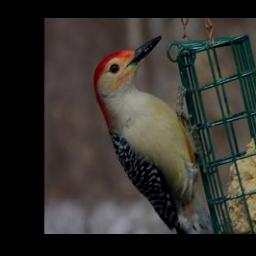Woodpecker: (94, 35, 213, 232)
